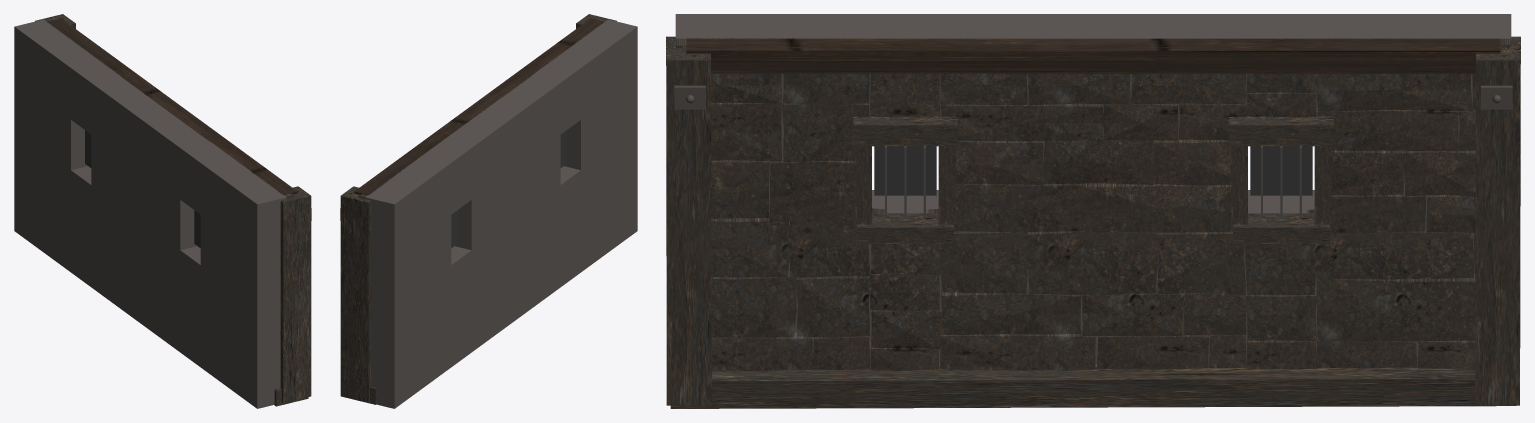
The model's file is wall_right_preview.glb.
3 renders of one model, left to right at view 1: azimuth 30°, elevation 25°; view 2: azimuth 150°, elevation 25°; view 3: azimuth 270°, elevation 25°, orthographic. The views are drawn at different scales.
Visible parts, largest first — view 1: ASSET_RIGHT_RIGHT_solid_2_structural, ASSET_RIGHT_RIGHT_solid_0_structural, ASSET_RIGHT_RIGHT_solid_4_structural, ASSET_RIGHT_RIGHT_load_corner_-1, ASSET_RIGHT_RIGHT_wall_plate, ASSET_RIGHT_RIGHT_low_3_structural, ASSET_RIGHT_RIGHT_low_1_structural, ASSET_RIGHT_RIGHT_upper_1_structural, ASSET_RIGHT_RIGHT_upper_3_structural; view 2: ASSET_RIGHT_RIGHT_solid_2_structural, ASSET_RIGHT_RIGHT_solid_4_structural, ASSET_RIGHT_RIGHT_solid_0_structural, ASSET_RIGHT_RIGHT_load_corner_1, ASSET_RIGHT_RIGHT_wall_plate, ASSET_RIGHT_RIGHT_low_1_structural, ASSET_RIGHT_RIGHT_low_3_structural, ASSET_RIGHT_RIGHT_upper_3_structural, ASSET_RIGHT_RIGHT_upper_1_structural; view 3: ASSET_RIGHT_RIGHT_continuous_plinth, ASSET_RIGHT_RIGHT_wall_plate, ASSET_RIGHT_RIGHT_load_corner_-1, ASSET_RIGHT_RIGHT_load_corner_1, ASSET_RIGHT_RIGHT_solid_4_stone_1_0, ASSET_RIGHT_RIGHT_solid_2_structural, ASSET_RIGHT_RIGHT_solid_2_stone_2_1, ASSET_RIGHT_RIGHT_solid_4_stone_2_0, ASSET_RIGHT_RIGHT_solid_2_stone_3_1, ASSET_RIGHT_RIGHT_solid_2_stone_3_0, ASSET_RIGHT_RIGHT_solid_4_stone_6_0, ASSET_RIGHT_RIGHT_solid_2_stone_1_0 (+63 smaller).
Part boxes in pixels (<box>): ASSET_RIGHT_RIGHT_solid_2_structural: <box>91,76,208,351</box>; ASSET_RIGHT_RIGHT_solid_0_structural: <box>200,156,286,408</box>; ASSET_RIGHT_RIGHT_solid_4_structural: <box>14,19,99,272</box>; ASSET_RIGHT_RIGHT_load_corner_-1: <box>280,186,311,403</box>; ASSET_RIGHT_RIGHT_wall_plate: <box>47,18,297,194</box>; ASSET_RIGHT_RIGHT_low_3_structural: <box>71,166,91,286</box>; ASSET_RIGHT_RIGHT_low_1_structural: <box>180,246,200,366</box>; ASSET_RIGHT_RIGHT_upper_1_structural: <box>180,141,229,214</box>; ASSET_RIGHT_RIGHT_upper_3_structural: <box>71,61,120,134</box>; ASSET_RIGHT_RIGHT_solid_2_structural: <box>442,76,560,351</box>; ASSET_RIGHT_RIGHT_solid_4_structural: <box>365,156,451,408</box>; ASSET_RIGHT_RIGHT_solid_0_structural: <box>552,19,637,272</box>; ASSET_RIGHT_RIGHT_load_corner_1: <box>340,186,371,403</box>; ASSET_RIGHT_RIGHT_wall_plate: <box>354,18,604,194</box>; ASSET_RIGHT_RIGHT_low_1_structural: <box>560,166,580,286</box>; ASSET_RIGHT_RIGHT_low_3_structural: <box>451,246,471,366</box>; ASSET_RIGHT_RIGHT_upper_3_structural: <box>422,141,471,214</box>; ASSET_RIGHT_RIGHT_upper_1_structural: <box>531,61,580,134</box>; ASSET_RIGHT_RIGHT_continuous_plinth: <box>670,361,1515,408</box>; ASSET_RIGHT_RIGHT_wall_plate: <box>686,38,1500,73</box>; ASSET_RIGHT_RIGHT_load_corner_-1: <box>666,36,711,405</box>; ASSET_RIGHT_RIGHT_load_corner_1: <box>1475,36,1520,405</box>; ASSET_RIGHT_RIGHT_solid_4_stone_1_0: <box>1316,275,1475,341</box>; ASSET_RIGHT_RIGHT_solid_2_structural: <box>940,14,1246,362</box>; ASSET_RIGHT_RIGHT_solid_2_stone_2_1: <box>1027,226,1157,295</box>; ASSET_RIGHT_RIGHT_solid_4_stone_2_0: <box>1316,226,1473,279</box>; ASSET_RIGHT_RIGHT_solid_2_stone_3_1: <box>1083,180,1232,232</box>; ASSET_RIGHT_RIGHT_solid_2_stone_3_0: <box>954,183,1084,232</box>; ASSET_RIGHT_RIGHT_solid_4_stone_6_0: <box>1316,73,1472,111</box>; ASSET_RIGHT_RIGHT_solid_2_stone_1_0: <box>940,288,1081,335</box>.
Size of the model in its own units: 0.926 by 3.21 by 7.05.
7 materials, 4 textured.
